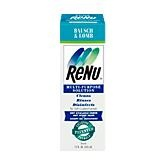grozi_1: (59, 12, 107, 149)
